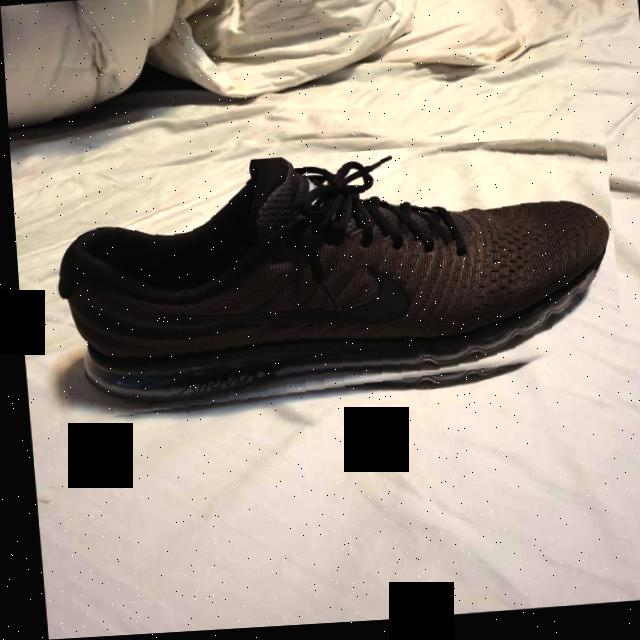shoe: (38, 139, 620, 423)
